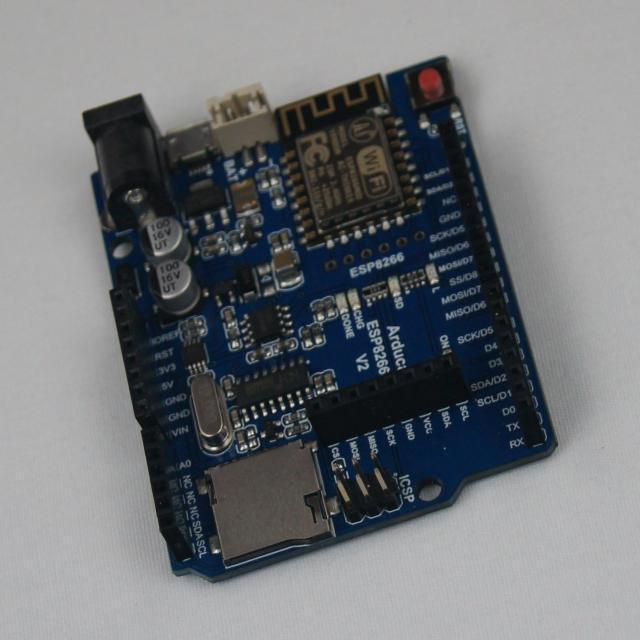Arduino Uno Camera Shield: (84, 58, 557, 581)
